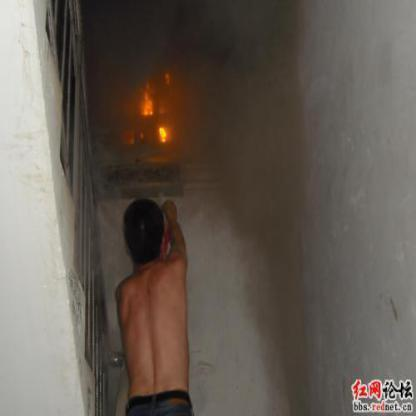fire: (107, 66, 199, 160)
smoke: (62, 2, 264, 66)
